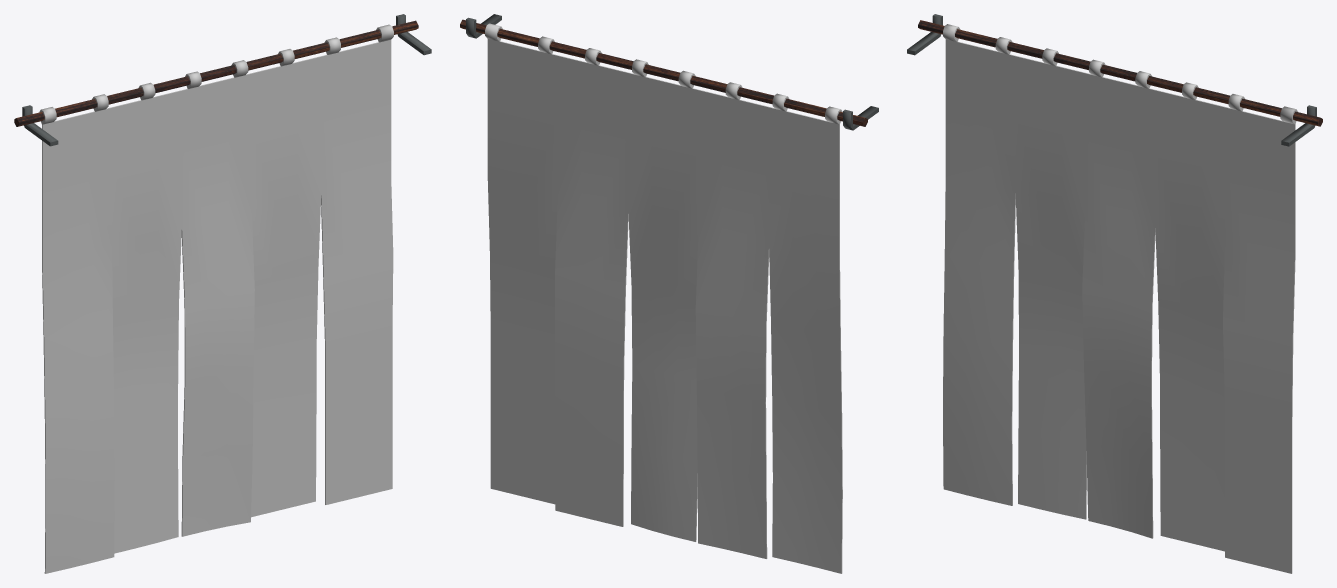
File: jov_noren_0t.fbx
3 renders of one model, left to right at view 1: azimuth 30°, elevation 25°; view 2: azimuth 150°, elevation 25°; view 3: azimuth 330°, elevation 25°, orthographic.
Visible parts, largest first — view 1: jov_noren_0t; view 2: jov_noren_0t; view 3: jov_noren_0t.
Part boxes in pixels (x1=…): jov_noren_0t: x1=14, y1=14, x2=431, y2=573; jov_noren_0t: x1=460, y1=14, x2=878, y2=573; jov_noren_0t: x1=907, y1=14, x2=1322, y2=573.
Bounding box in the file's own units: 109 × 122 × 13.22.
